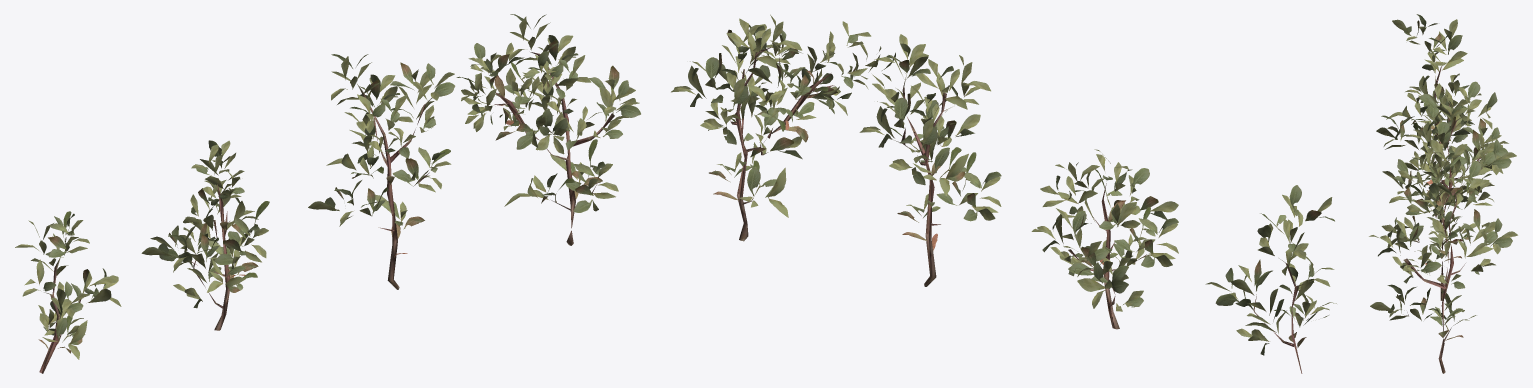
Rendered from ph-shrub-04.lod1.glb.
3 views of the same model, side by side, from view 1: azimuth 30°, elevation 25°; view 2: azimuth 150°, elevation 25°; view 3: azimuth 270°, elevation 25° (orthographic). The views are drawn at different scales.
Parts seen in each view (by area): view 1: shrub_04; view 2: shrub_04; view 3: shrub_04.
Part boxes in pixels (x1,y1,x2,y2): shrub_04: (15,14,640,373); shrub_04: (671,14,1336,373); shrub_04: (1369,14,1517,373).
Size of the model in its own units: 0.5837 by 0.2192 by 0.1461.
1 material, 1 textured.
